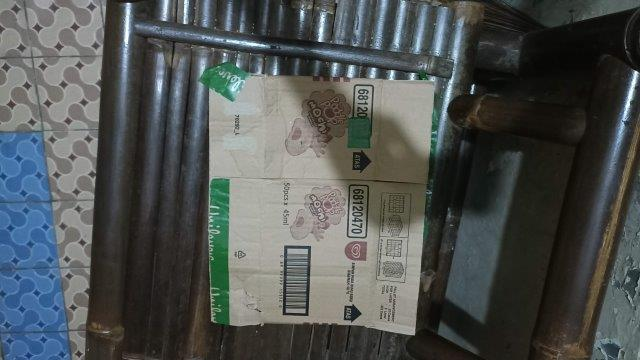kardus: (207, 73, 433, 335)
